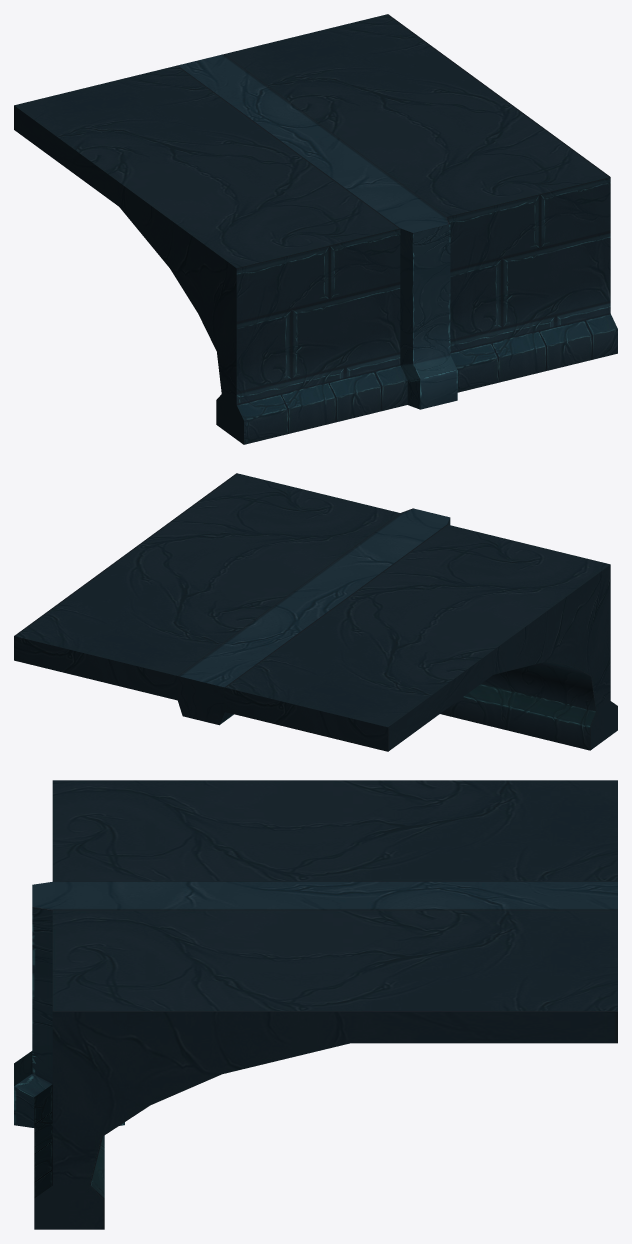
Rendered from SM_Ceiling.FBX.
The picture shows the model from 3 angles, top to bottom: view 1: azimuth 30°, elevation 25°; view 2: azimuth 150°, elevation 25°; view 3: azimuth 270°, elevation 25°; orthographic projection. The views are drawn at different scales.
Visible parts, largest first — view 1: SM_CeilingArched; view 2: SM_CeilingArched; view 3: SM_CeilingArched.
Part boxes in pixels (left/top/right/bottom): SM_CeilingArched: left=14, top=14, right=617, bottom=444; SM_CeilingArched: left=14, top=473, right=617, bottom=751; SM_CeilingArched: left=14, top=780, right=617, bottom=1229.
Size of the model in its own units: 800 by 350 by 881.
